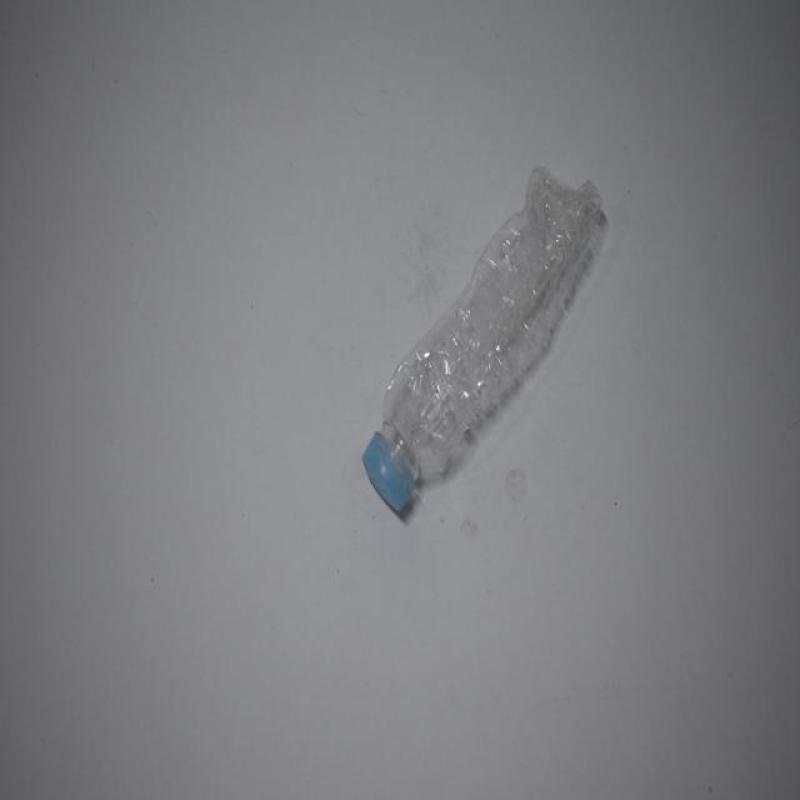botella: (359, 172, 606, 528)
